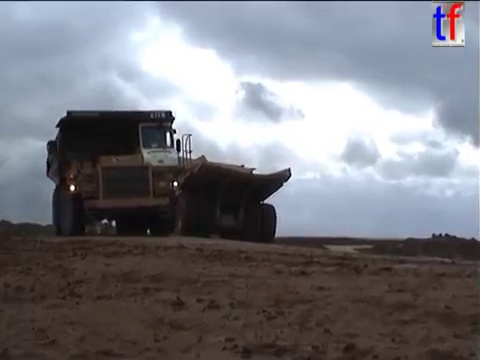excavator: (62, 163, 119, 238)
truck: (43, 106, 195, 239), (134, 148, 295, 245)
